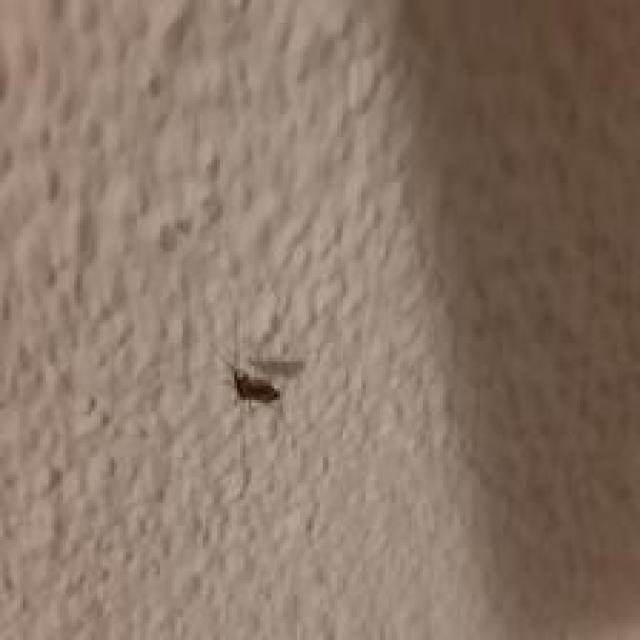Culex: (226, 364, 280, 410)
